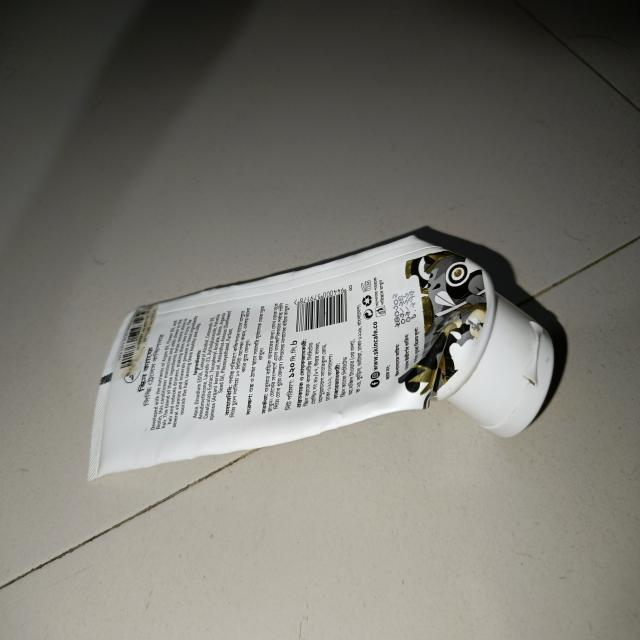Squeeze Tube: (82, 218, 582, 480)
